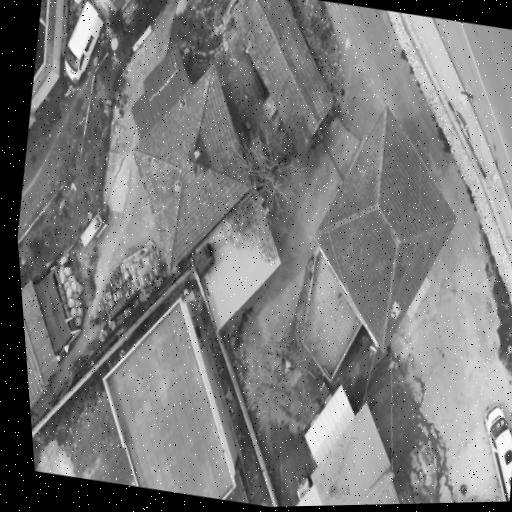car: (65, 2, 103, 81), (484, 405, 511, 501)
